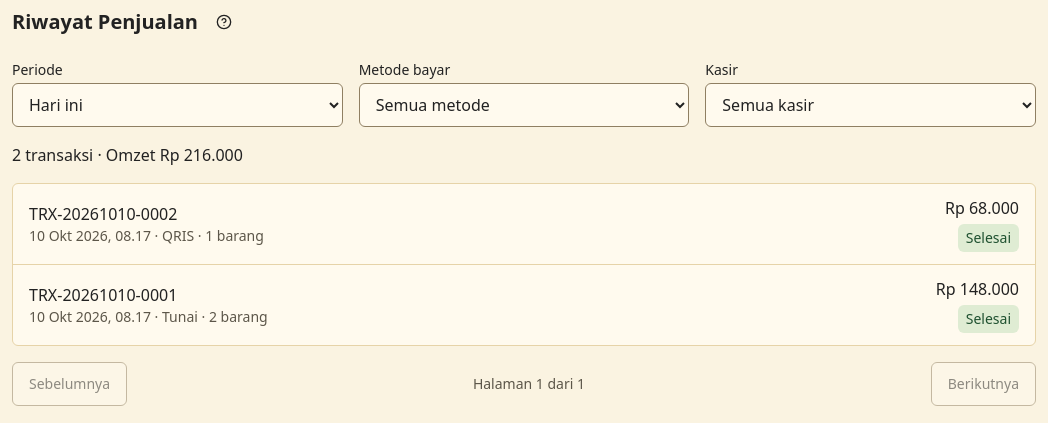
Scenario: SaleHistoryPage › filter metode QRIS hanya menampilkan transaksi QRIS
Expected: the text "2 transaksi · Omzet Rp 216.000" is shown, [12,144,243,166]
Select "QRIS" in the dropdown labelled "Metode bayar" at (524, 105), box [359,83,689,127]
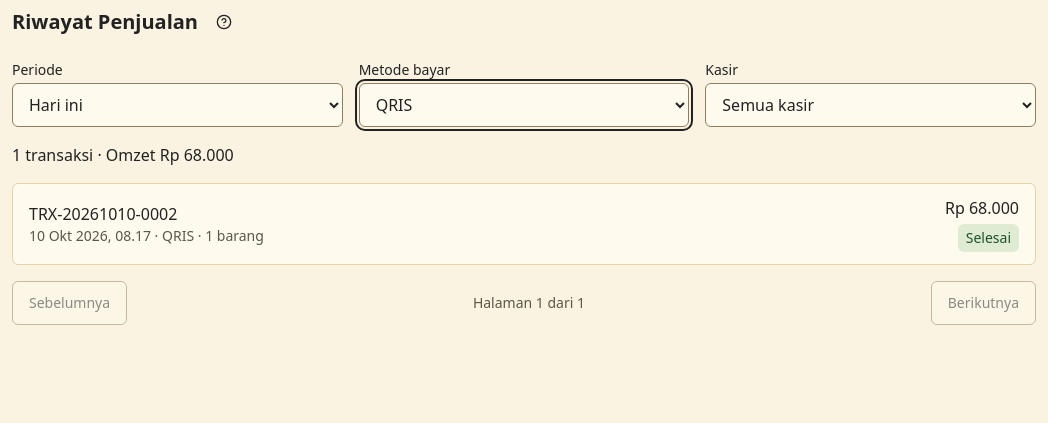
Now the text "1 transaksi · Omzet Rp 68.000" is shown, box [12,144,234,166]
